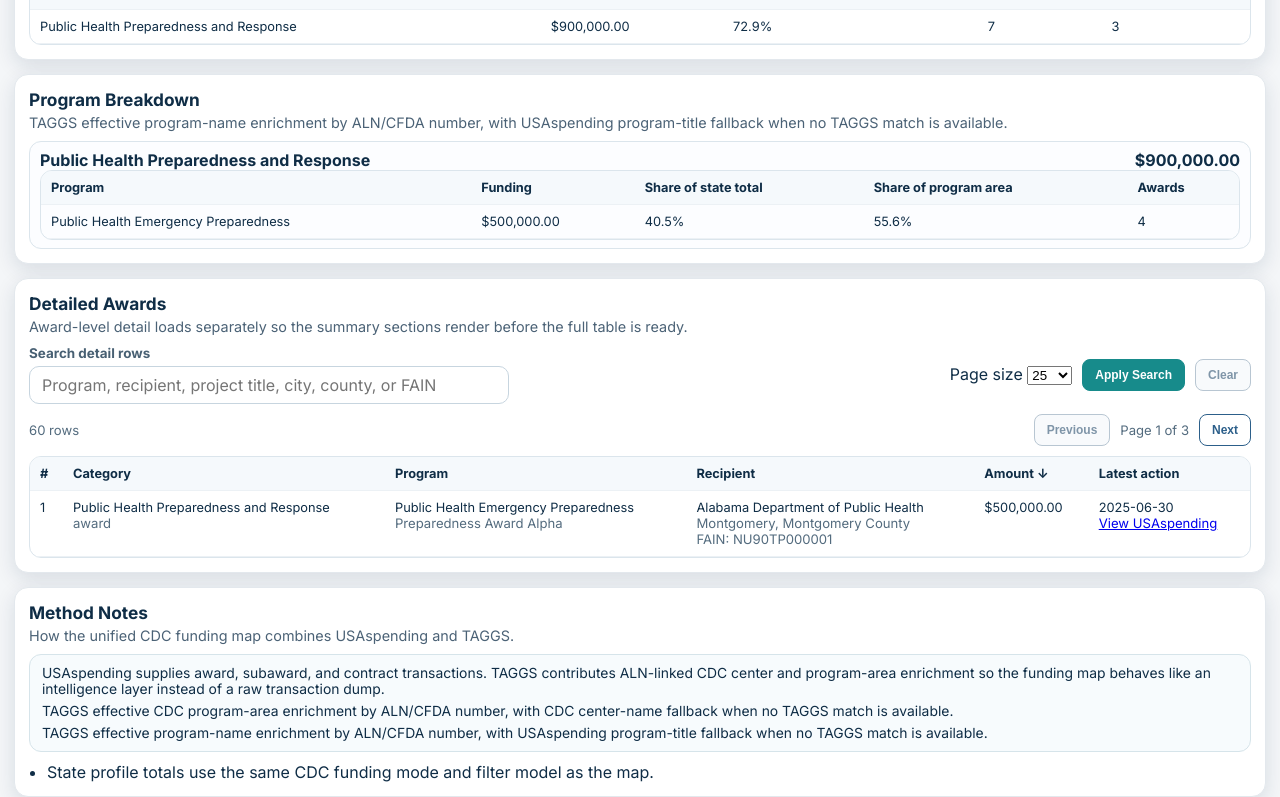
CdcStateFundingProfile › paginates the detail table with a separate follow-up request
The width and height of the screenshot is (1280, 797).
(page scrolled)
expect the text "Preparedness Award Alpha" is shown: met, box [395,515,563,531]
What coordinates should you click on to do the following:
click the button "Next"
I would click on:
 (1225, 430)
Its box is [1199,414,1251,446].
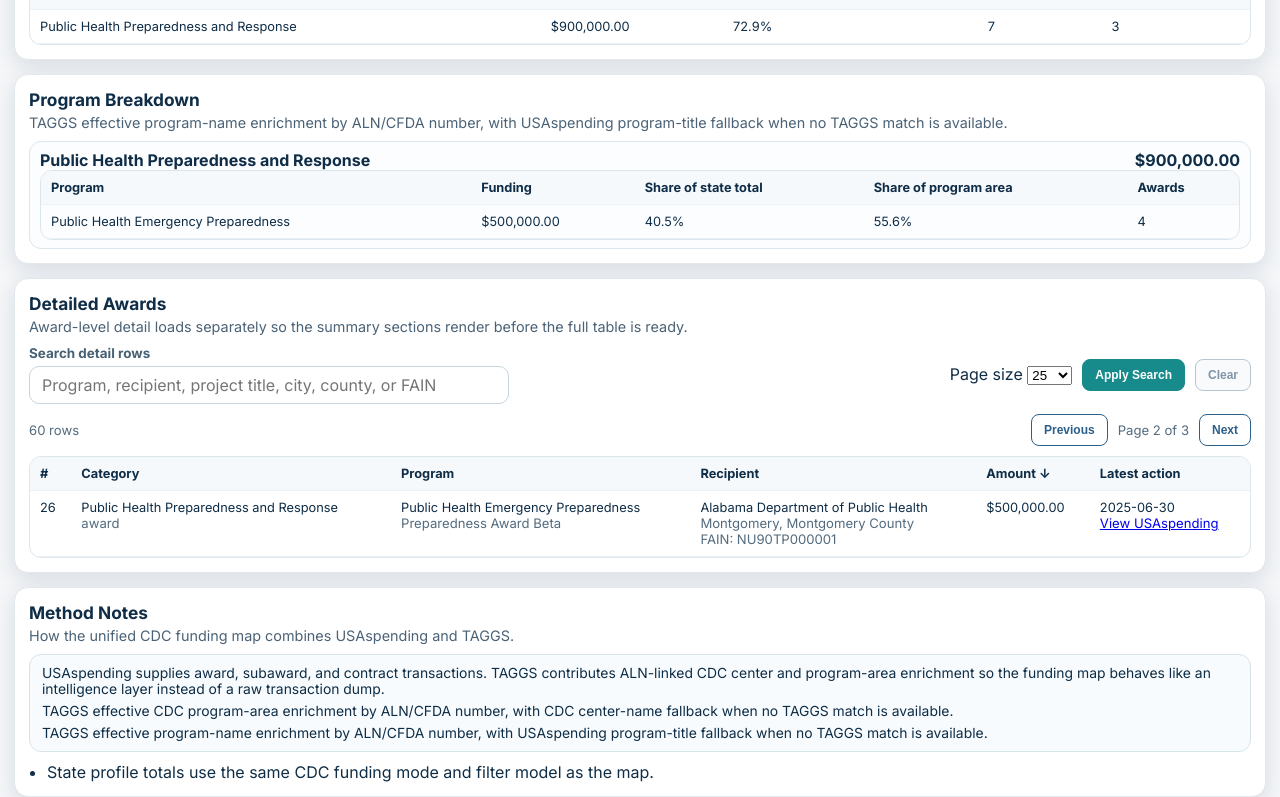
expect the text "Preparedness Award Beta" is shown: met, box [401,515,561,531]
